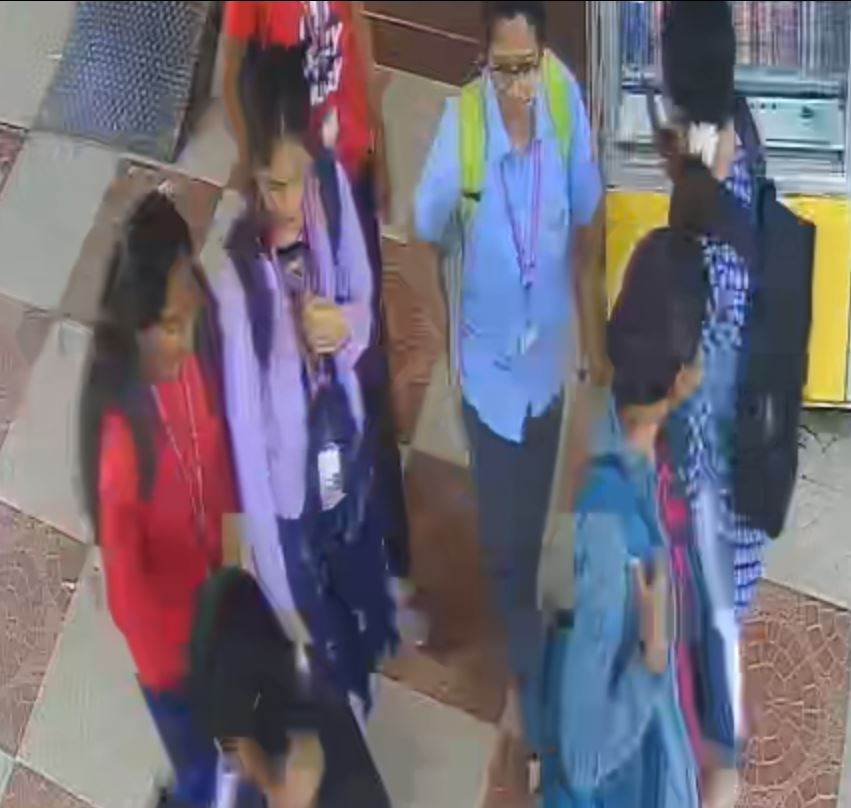intruder: (231, 46, 441, 712), (422, 5, 574, 613), (89, 187, 246, 740)
